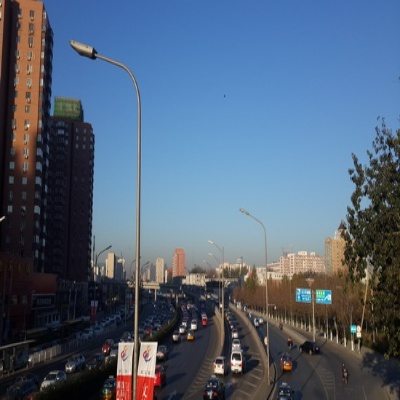car: (40, 369, 66, 390), (202, 376, 224, 398), (62, 352, 83, 374), (301, 338, 320, 359), (99, 377, 117, 398), (151, 365, 167, 387), (213, 352, 228, 375), (230, 351, 245, 374), (276, 381, 292, 400), (84, 355, 100, 373), (99, 336, 115, 354), (278, 354, 293, 373), (154, 341, 167, 359), (230, 340, 242, 352), (169, 331, 180, 343), (189, 319, 199, 330), (231, 327, 239, 338), (186, 331, 194, 341), (252, 317, 258, 328), (258, 313, 264, 324), (202, 317, 209, 325)
motorbike: (339, 372, 348, 384), (288, 341, 293, 351)
person: (340, 362, 346, 375), (287, 335, 293, 347)
